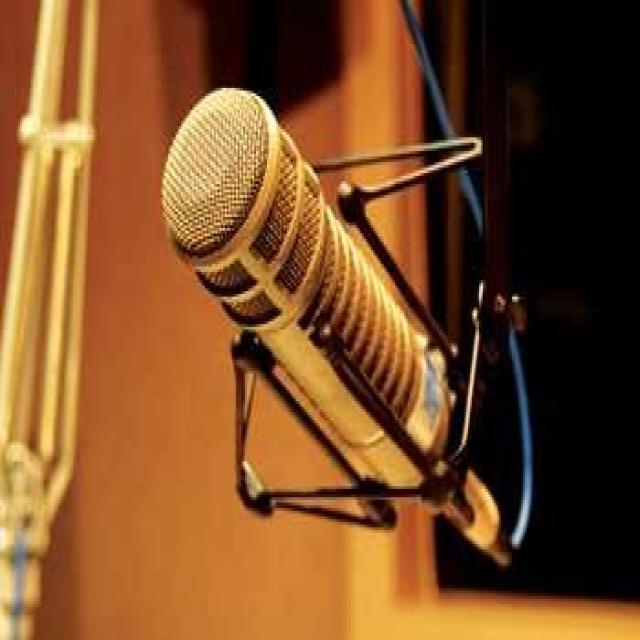microphone: (163, 77, 507, 556)
